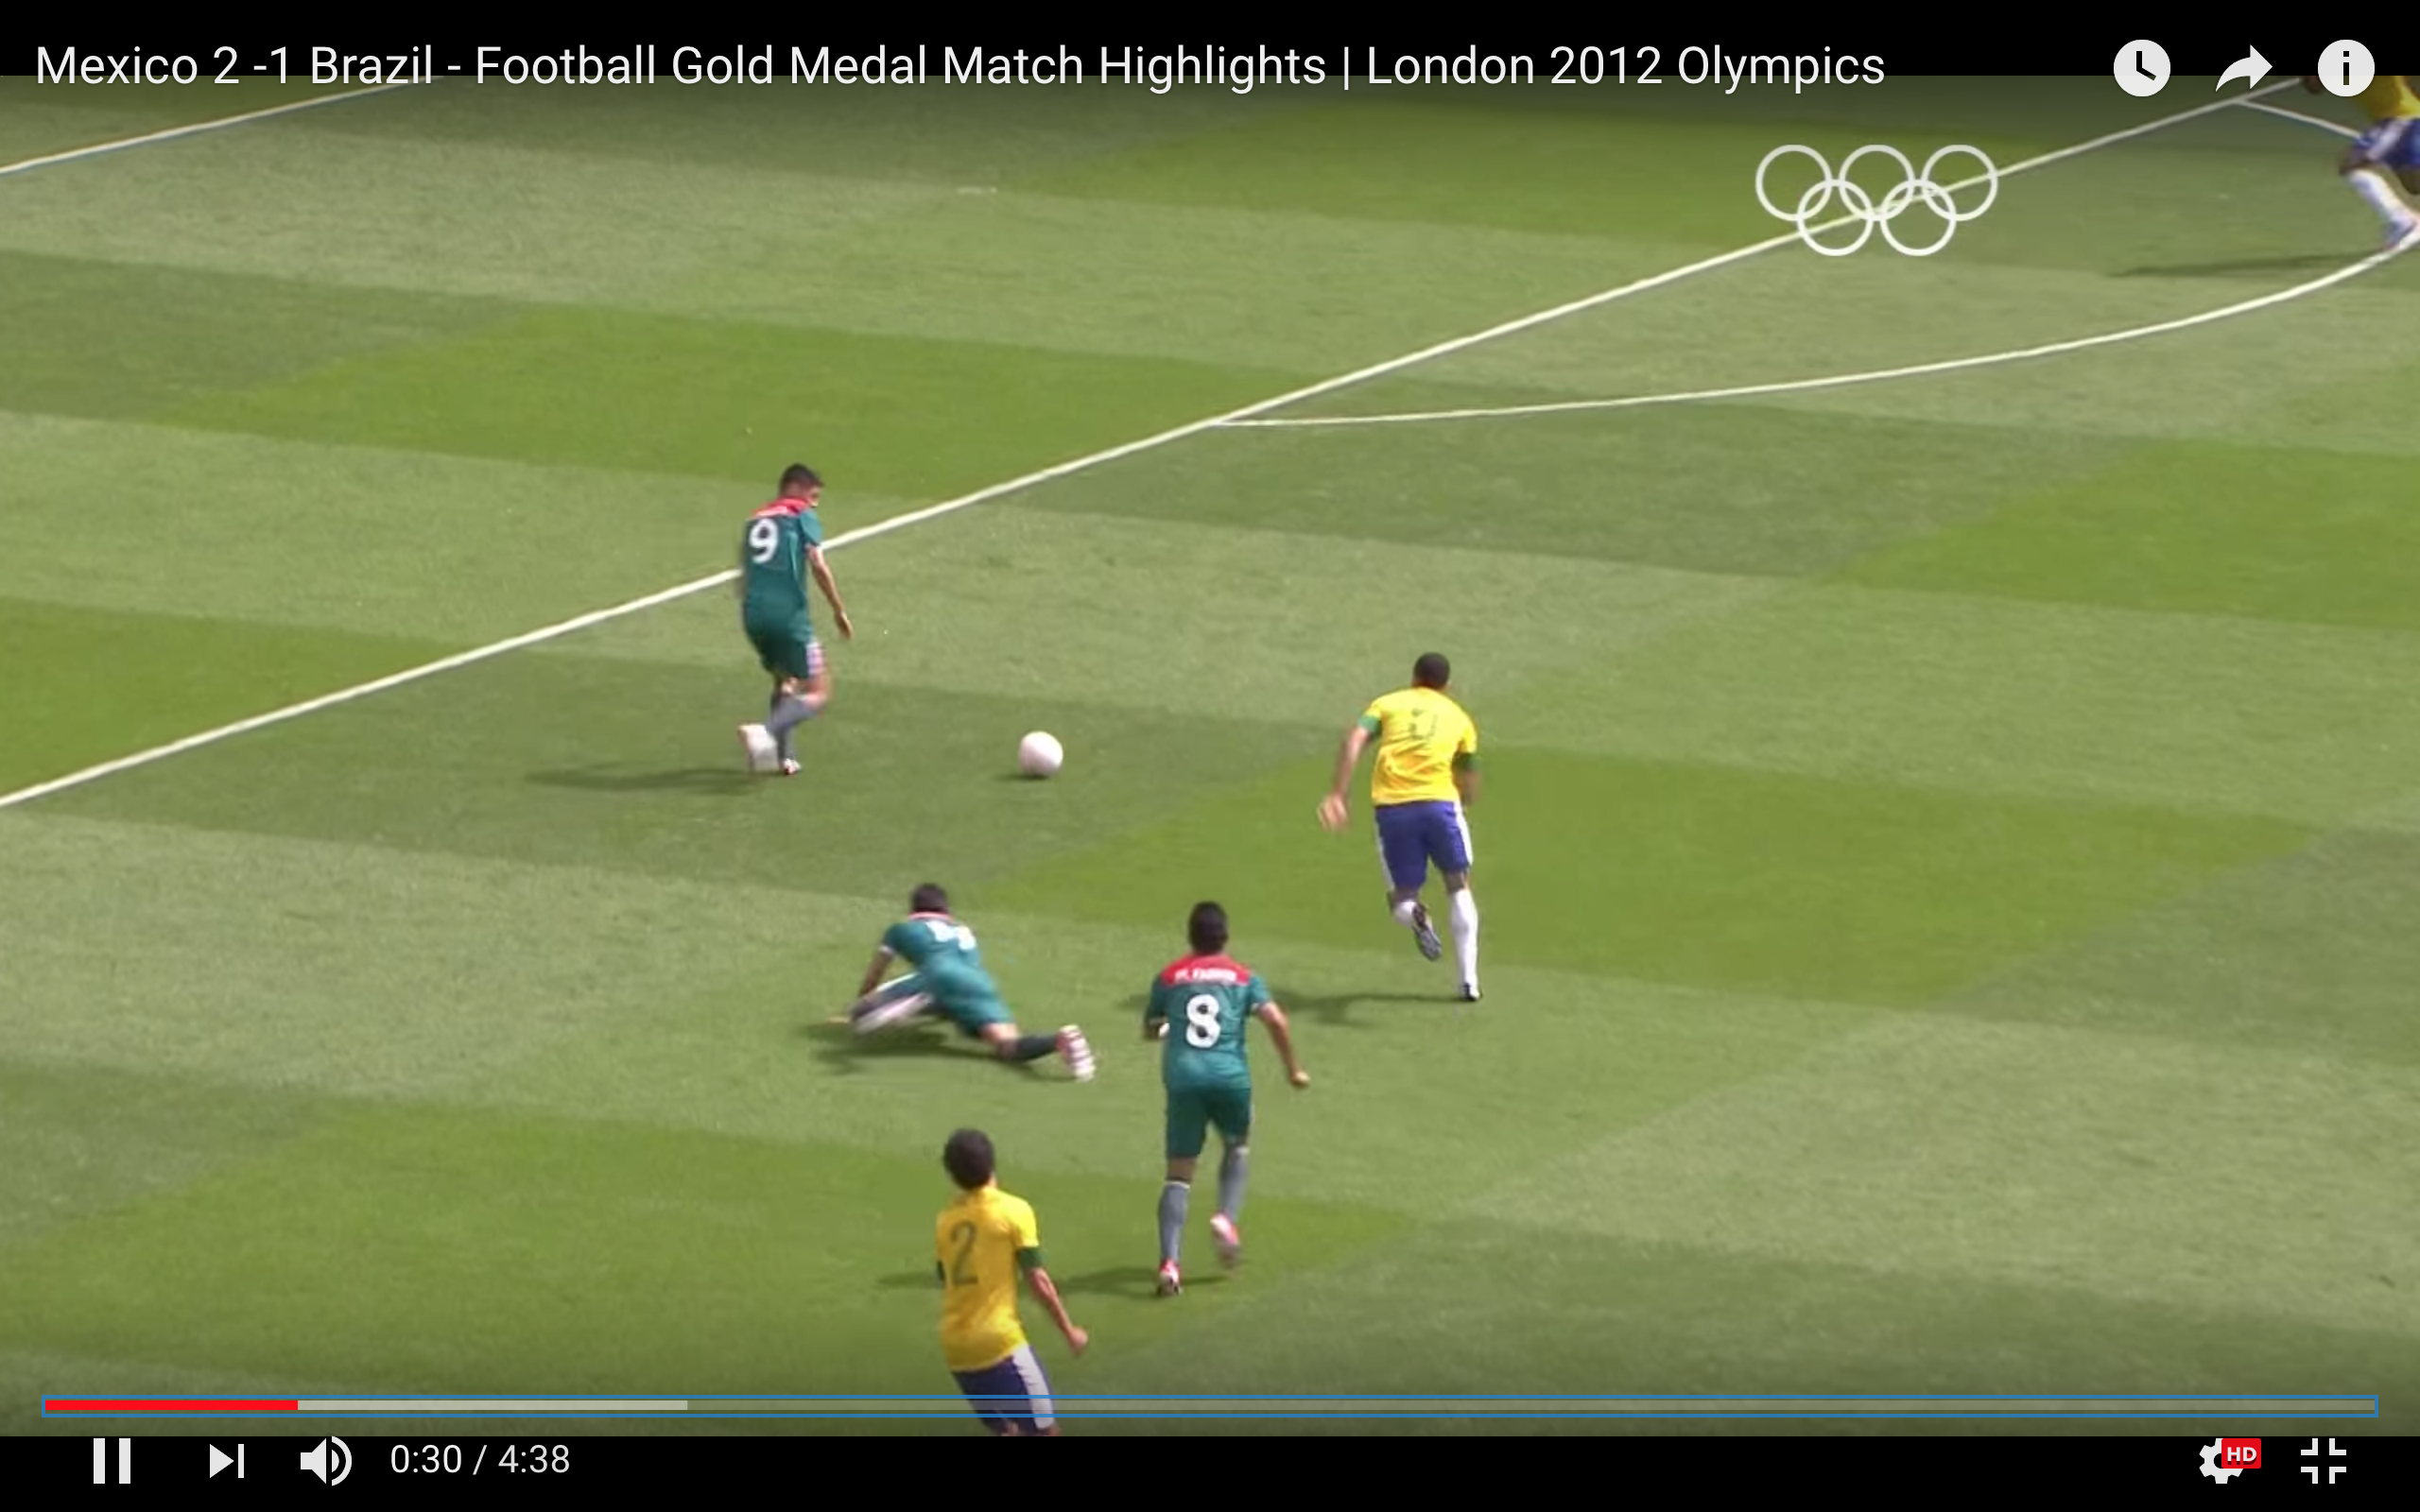soccer player: (1127, 888, 1313, 1320), (1305, 635, 1502, 1011), (830, 870, 1106, 1098), (917, 1115, 1106, 1430), (717, 459, 853, 791)
soccerball: (1016, 725, 1067, 786)
